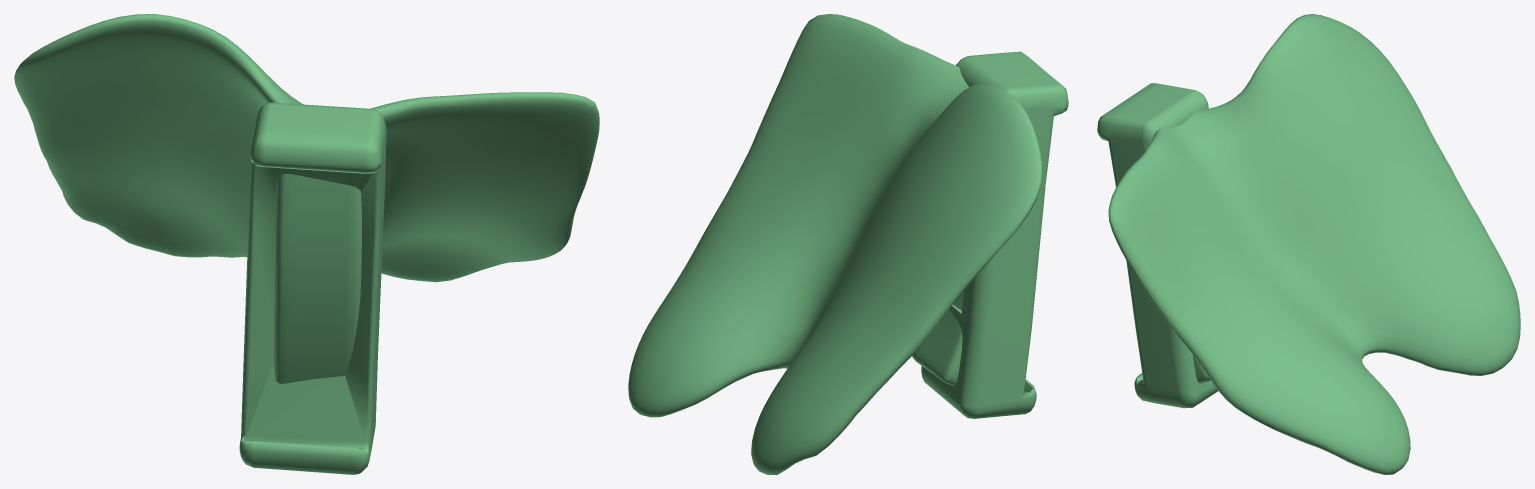
Rendered from BL2_Spacers_BaguetteMetal.001 2.glb.
3 renders of one model, left to right at view 1: azimuth 30°, elevation 25°; view 2: azimuth 150°, elevation 25°; view 3: azimuth 270°, elevation 25°, orthographic. The views are drawn at different scales.
Parts seen in each view (by area): view 1: BL2_Spacers_BaguetteMetal.001; view 2: BL2_Spacers_BaguetteMetal.001; view 3: BL2_Spacers_BaguetteMetal.001.
Boxes of the visible parts, <box> form: BL2_Spacers_BaguetteMetal.001: <box>14,14,599,474</box>; BL2_Spacers_BaguetteMetal.001: <box>628,14,1068,474</box>; BL2_Spacers_BaguetteMetal.001: <box>1097,14,1520,474</box>.
Bounding box in the file's own units: 0.9847 × 0.8529 × 0.9776.
